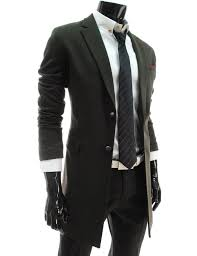F_M_suit jacket: (35, 9, 164, 179)
F_tie: (112, 23, 140, 186)
